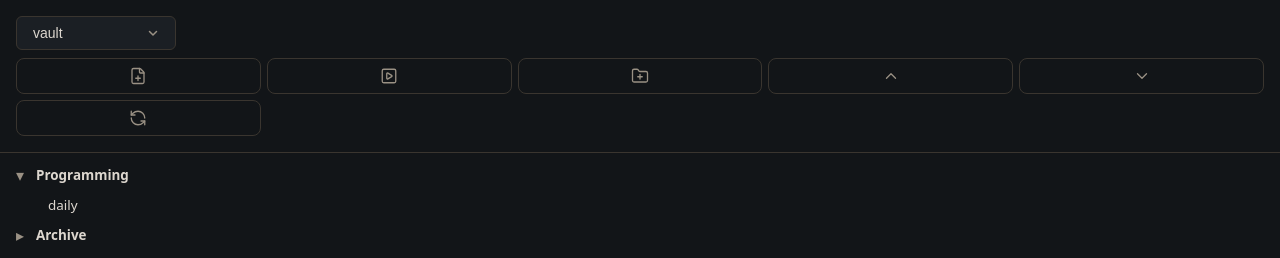
Test case: Sidebar Explorer M1 › opens folder context menu on right click
Right-click the list item "Programming" at (82, 175), box [16,164,129,214]
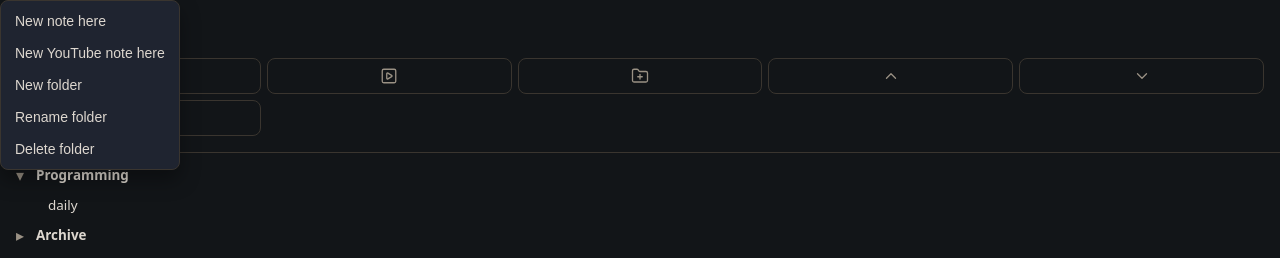
Expected: the menu item "New note here" is shown, [7,7,173,35]
Expected: the menu item "New folder" is shown, [7,71,173,99]
Expected: the menu item "Rename folder" is shown, [7,103,173,131]
